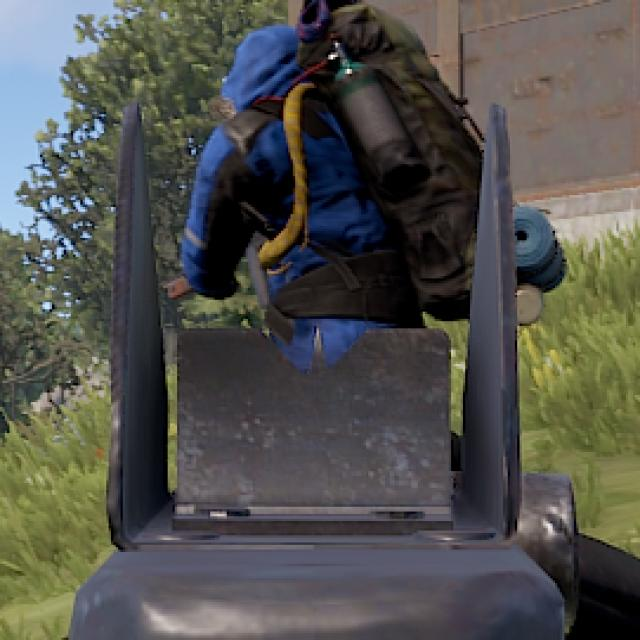Player: (181, 0, 472, 327)
